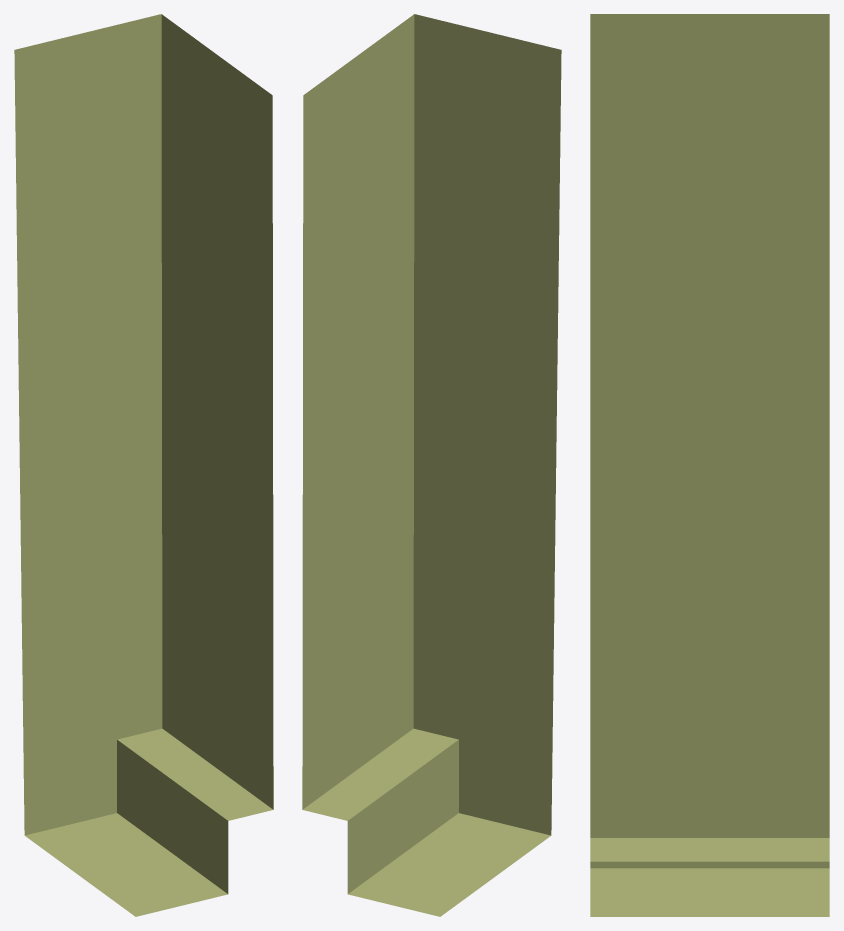
The picture shows the model from 3 angles, left to right: view 1: azimuth 30°, elevation 25°; view 2: azimuth 150°, elevation 25°; view 3: azimuth 270°, elevation 25°; orthographic projection. The views are drawn at different scales.
Visible parts, largest first — view 1: 0_3_2_0_3_2_1_1_1_1; view 2: 0_3_2_0_3_2_1_1_1_1; view 3: 0_3_2_0_3_2_1_1_1_1.
Boxes of the visible parts, box(x1,y1,x2,y2) form: 0_3_2_0_3_2_1_1_1_1: box(14, 14, 273, 916); 0_3_2_0_3_2_1_1_1_1: box(302, 14, 561, 916); 0_3_2_0_3_2_1_1_1_1: box(590, 14, 829, 916).
Bounding box in the file's own units: 4.61 × 23.47 × 6.
